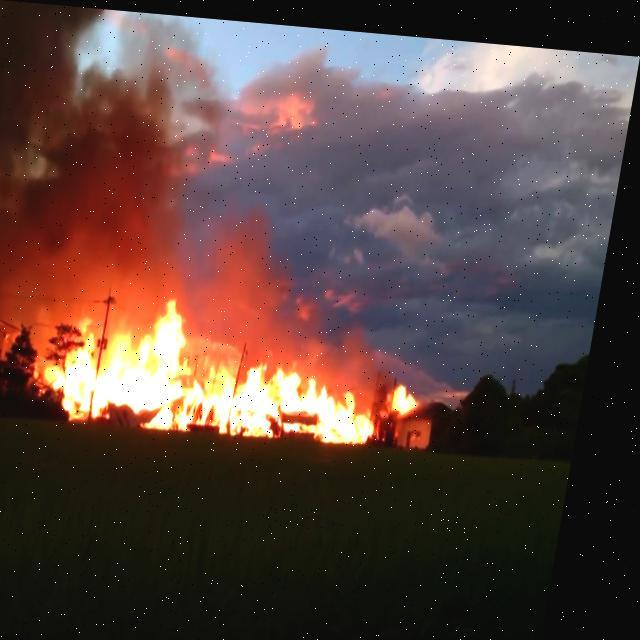Fire: (42, 284, 408, 438), (398, 370, 432, 409)
